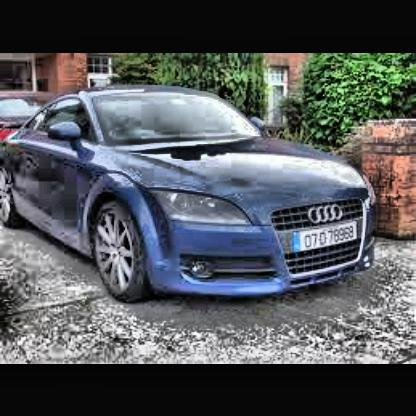Audi TT Hatchback 2011: (7, 87, 379, 310)
